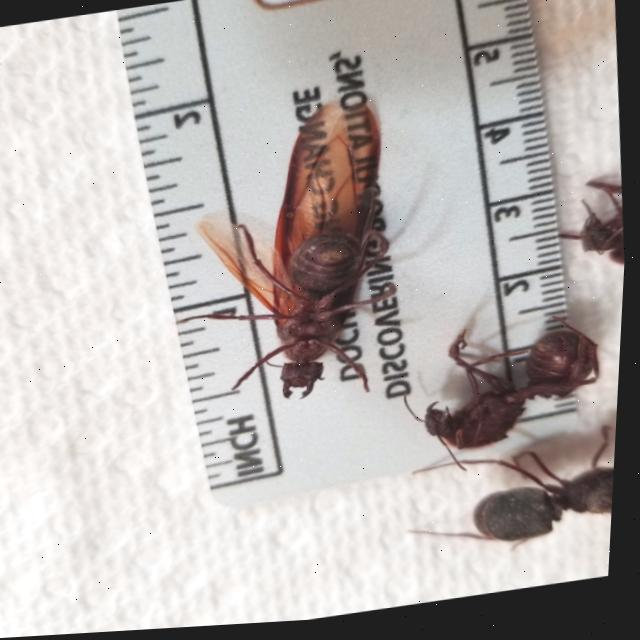Alive-Female-Dealate: (404, 428, 621, 573)
Dead-Female-Alate: (158, 94, 418, 424)
Dead-Female-Dealate: (398, 313, 614, 486), (551, 156, 632, 284)
